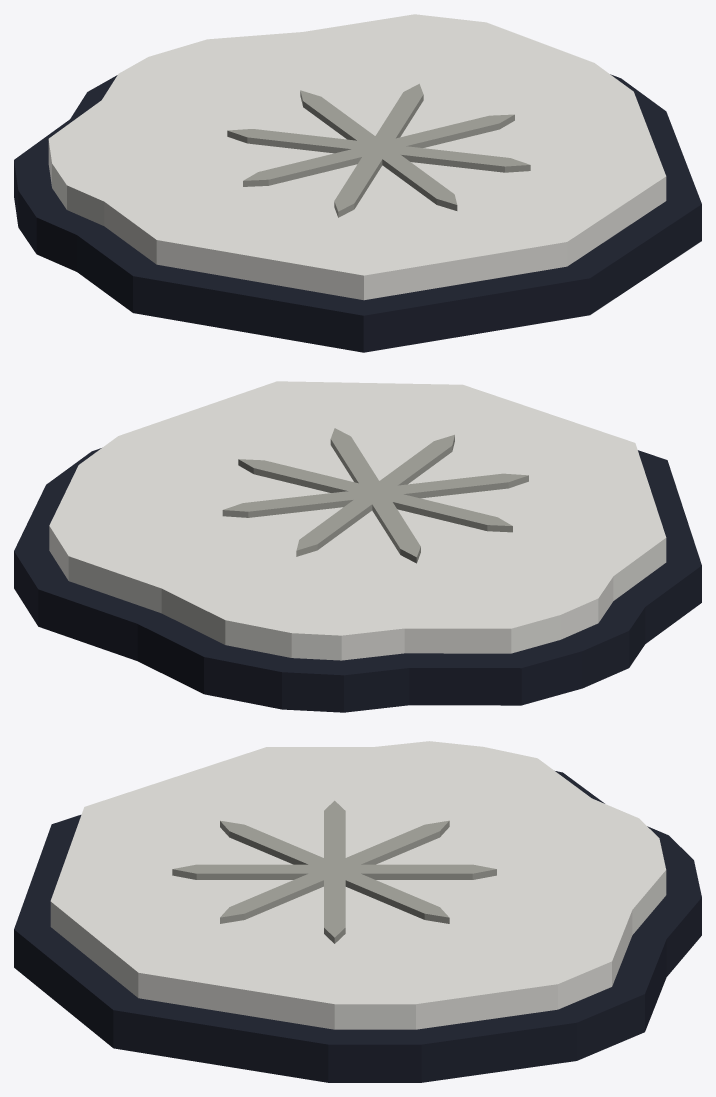
File: garlic.fbx
3 views of the same model, one above another, from view 1: azimuth 30°, elevation 25°; view 2: azimuth 150°, elevation 25°; view 3: azimuth 270°, elevation 25° (orthographic). The views are drawn at different scales.
Visible parts, largest first — view 1: garlic; view 2: garlic; view 3: garlic.
Part boxes in pixels (left/top/right/bottom): garlic: left=14, top=14, right=701, bottom=352; garlic: left=14, top=381, right=701, bottom=712; garlic: left=14, top=741, right=701, bottom=1082.
Size of the model in its own units: 0.9862 by 0.11 by 0.9777.
1 material, 1 textured.
